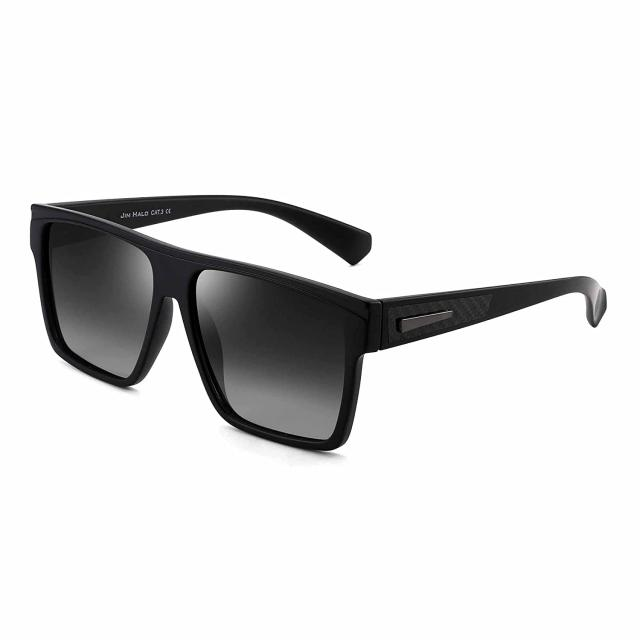suspicious-objects: (16, 158, 481, 468)
